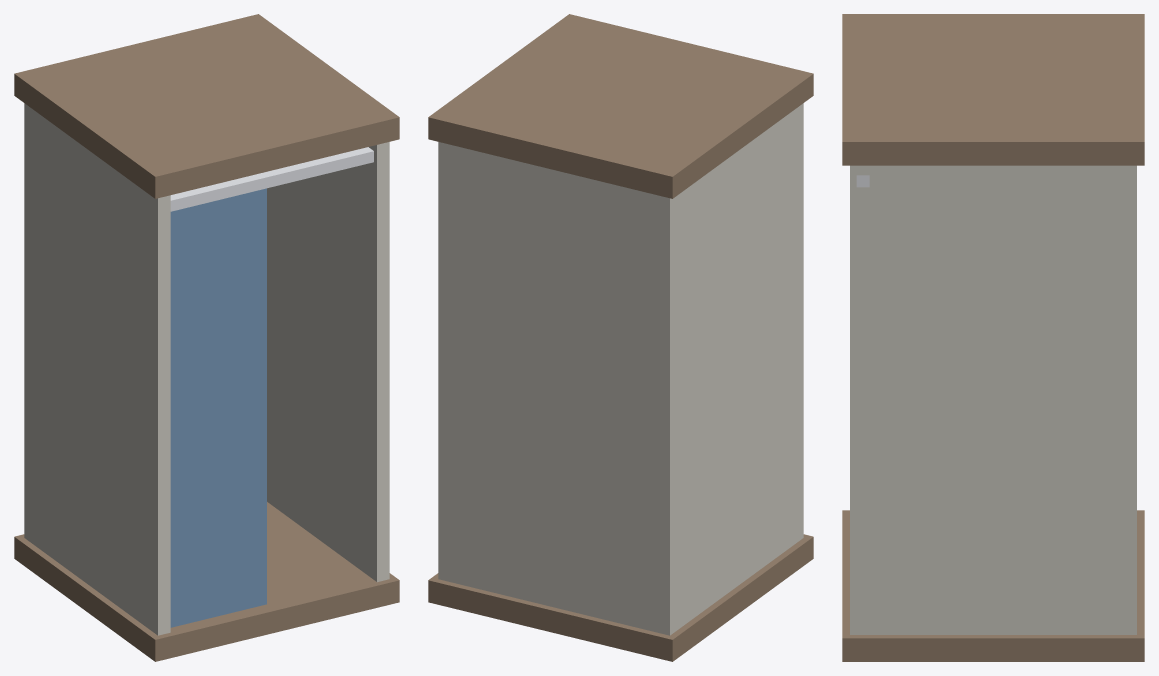
Rendered from martial-arts-dojo-and-fight-stages-changing-cubicle-030ae453__18072.glb.
The picture shows the model from 3 angles, left to right: view 1: azimuth 30°, elevation 25°; view 2: azimuth 150°, elevation 25°; view 3: azimuth 270°, elevation 25°; orthographic projection. The views are drawn at different scales.
Parts seen in each view (by area): view 1: changing-cubicle; view 2: changing-cubicle; view 3: changing-cubicle.
Part boxes in pixels (x1=…): changing-cubicle: x1=14, y1=14, x2=399, y2=661; changing-cubicle: x1=428, y1=14, x2=813, y2=661; changing-cubicle: x1=842, y1=14, x2=1144, y2=661.
Size of the model in its own units: 1.16 by 2.2 by 1.16.
